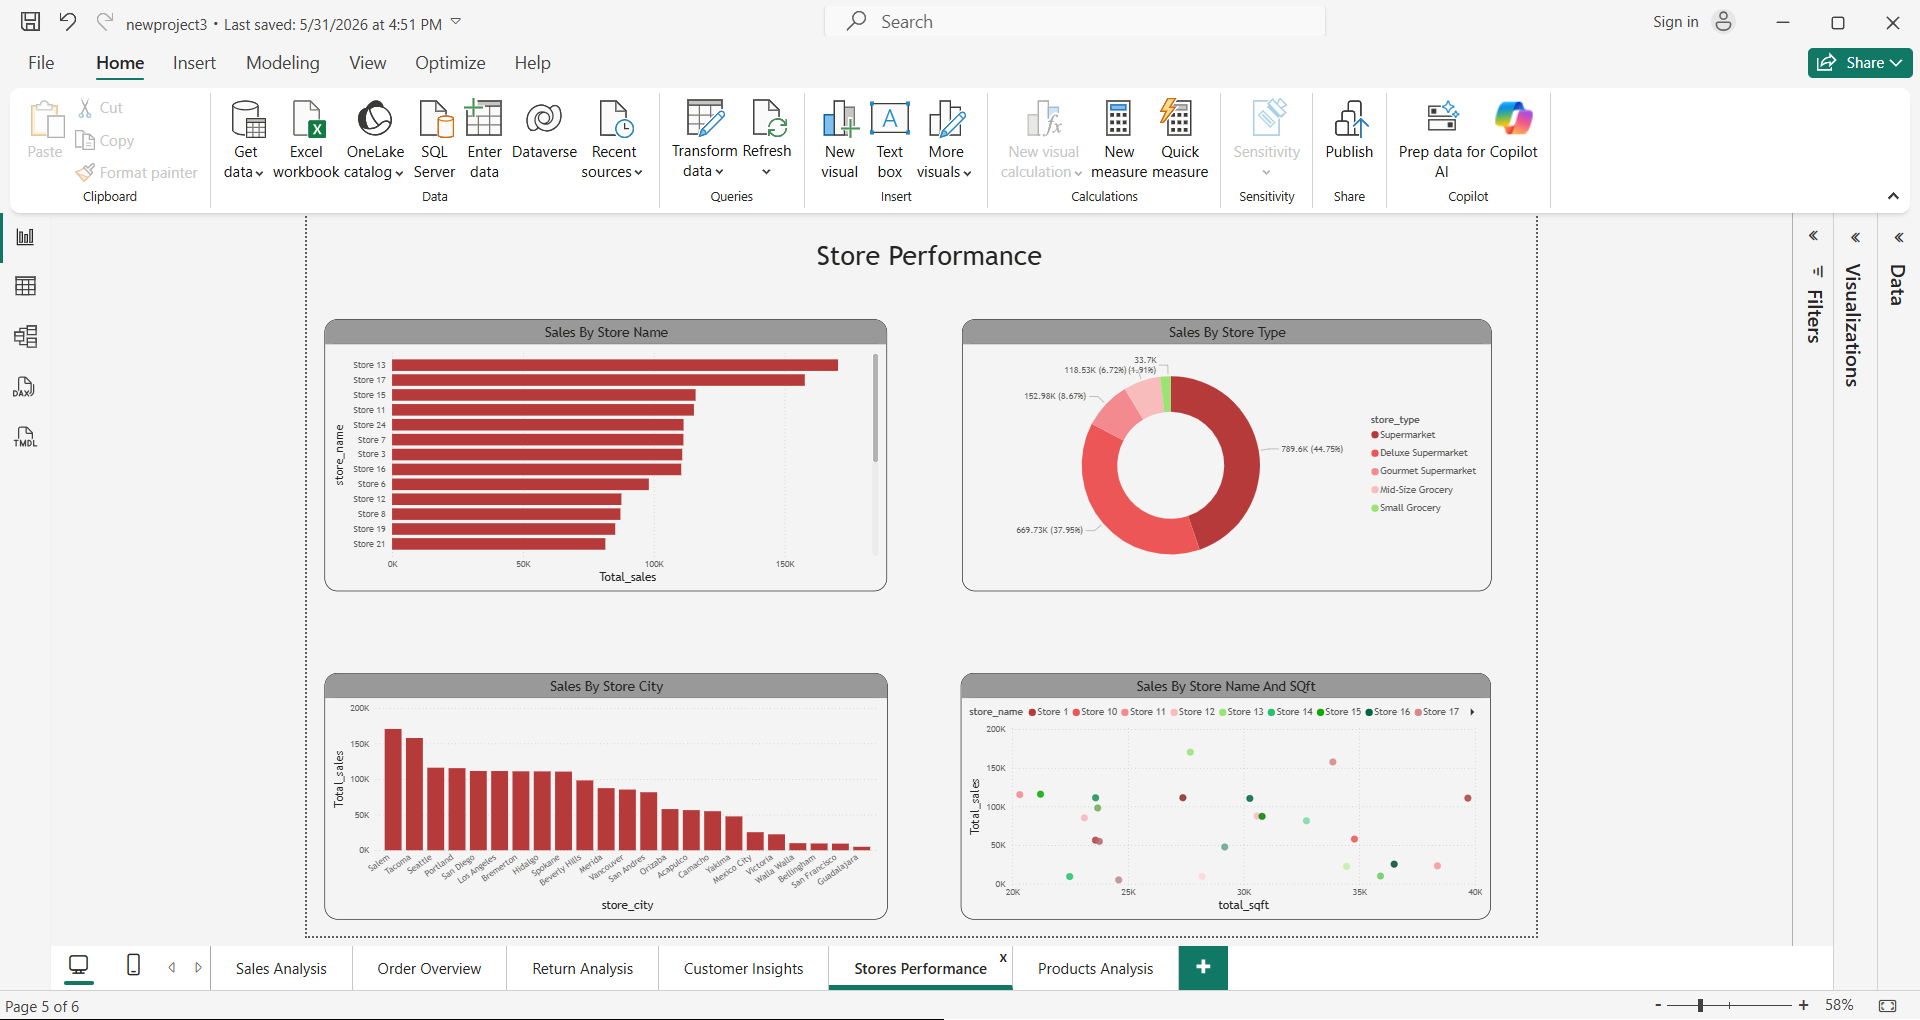

Layout of this report page (visuals, bound fields, positions):
{"tool":"powerbi","page":{"name":"Stores Performance ","canvas":[1700,1000],"ordinal":4},"visuals":[{"type":"barChart","title":"Sales By Store Name ","fields":{"Category":["Stores.store_name"],"Y":["Transaction1997.Total_sales"]},"box":[23.6,147.1,777.5,376],"z":0},{"type":"columnChart","title":"Sales By Store City ","fields":{"Y":["Transaction1997.Total_sales"],"Category":["Stores.store_city"]},"box":[23.7,636,778.2,340.8],"z":1000},{"type":"donutChart","title":"Sales By Store Type","fields":{"Category":["Stores.store_type"],"Y":["Transaction1997.Total_sales"]},"box":[904.7,147.1,732.1,376],"z":2000},{"type":"scatterChart","title":"Sales By Store Name And SQft","fields":{"Series":["Stores.store_name"],"X":["Stores.total_sqft"],"Y":["Transaction1997.Total_sales"]},"box":[903.9,636,732.6,340.8],"z":3000},{"type":"textbox","title":"Store Performance ","box":[699.4,36.3,330.6,58.1],"z":4000}]}

Visuals, with their boxes on the page's 1700x1000 design canvas (x1, y1, x2, y2). These are canvas units, not pixel positions in the 1920x1020 screenshot, which may show the page scaled, cropped or inside an application window:
"Sales By Store Name " barChart: 24/147/801/523
"Sales By Store City " columnChart: 24/636/802/977
"Sales By Store Type" donutChart: 905/147/1637/523
"Sales By Store Name And SQft" scatterChart: 904/636/1636/977
"Store Performance " textbox: 699/36/1030/94
